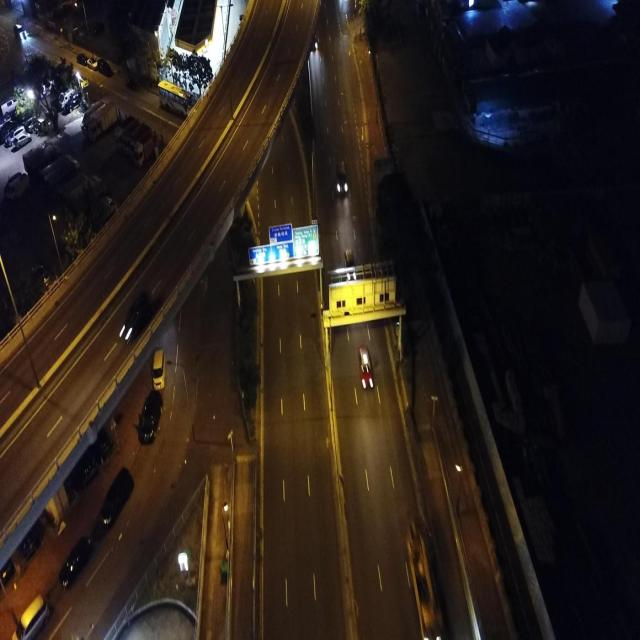bus: (157, 79, 195, 120)
car: (99, 466, 135, 528), (138, 386, 164, 444), (60, 536, 89, 588), (21, 593, 51, 636), (358, 341, 375, 392), (150, 347, 167, 391), (334, 156, 348, 198), (5, 125, 26, 146), (96, 58, 115, 78), (14, 133, 32, 149), (76, 53, 88, 67), (88, 57, 99, 71)
